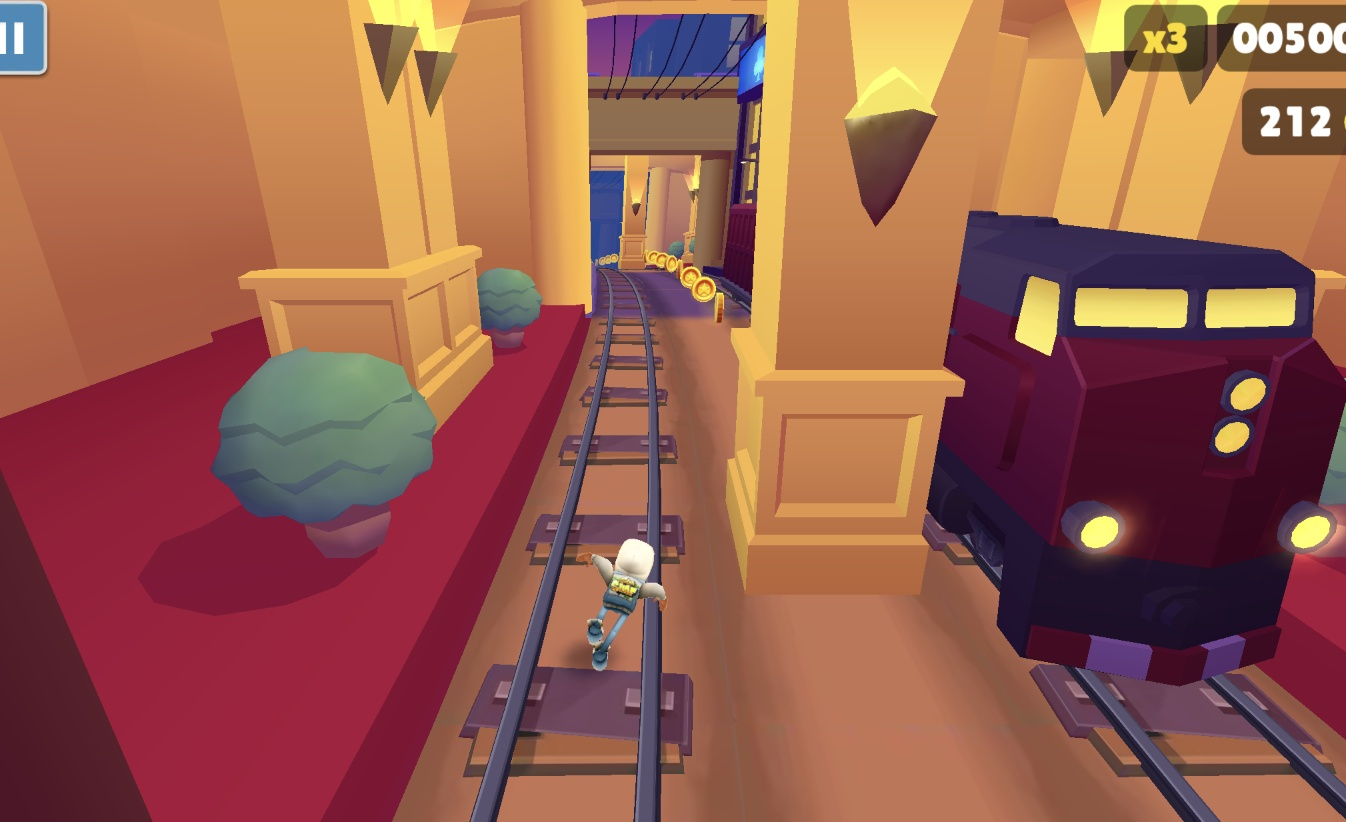pillar: (736, 0, 960, 594), (621, 152, 657, 270)
train: (928, 208, 1341, 688)
